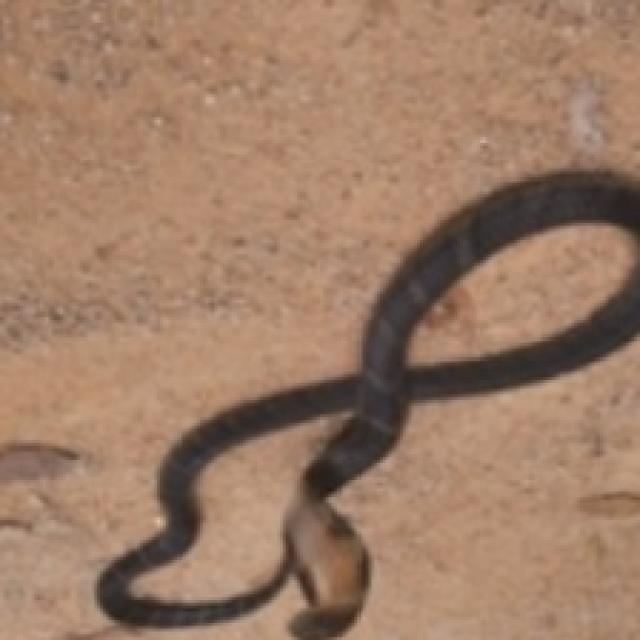king cobra: (97, 171, 637, 637)
